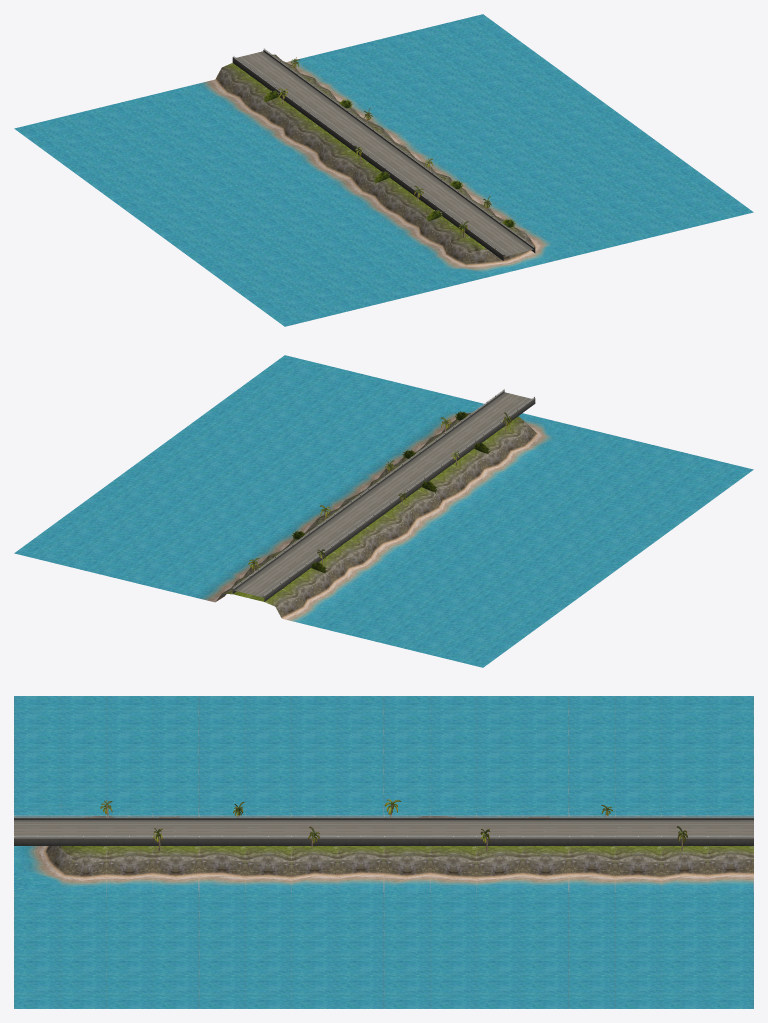
The model's file is Track05_Low.FBX.
3 renders of one model, top to bottom at view 1: azimuth 30°, elevation 25°; view 2: azimuth 150°, elevation 25°; view 3: azimuth 270°, elevation 25°, orthographic. The views are drawn at different scales.
Visible parts, largest first — view 1: Ground, Road (×2); view 2: Ground, Road (×2); view 3: Ground, Road (×2).
Part boxes in pixels (left/top/right/bottom): Ground: left=14, top=14, right=753, bottom=326; Road (×2): left=232, top=48, right=535, bottom=260; Ground: left=14, top=355, right=753, bottom=667; Road (×2): left=232, top=389, right=535, bottom=601; Ground: left=14, top=696, right=753, bottom=1008; Road (×2): left=14, top=815, right=753, bottom=845.
Size of the model in its own units: 6300 by 377 by 6300.
